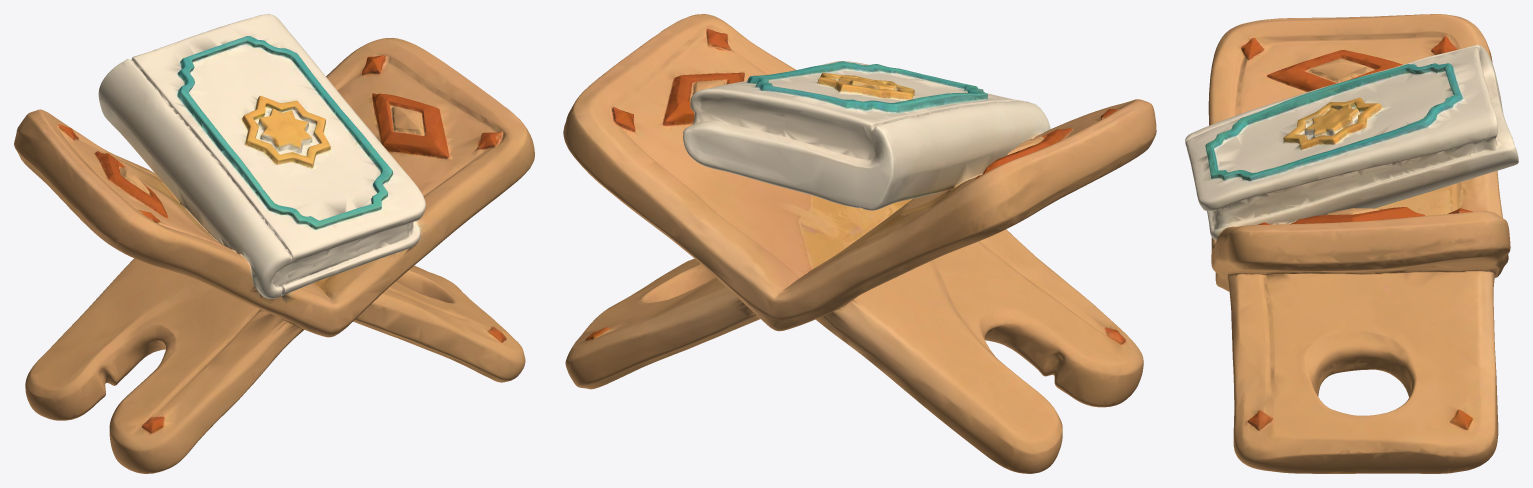
The model's file is wall-art.glb.
3 views of the same model, side by side, from view 1: azimuth 30°, elevation 25°; view 2: azimuth 150°, elevation 25°; view 3: azimuth 270°, elevation 25° (orthographic). The views are drawn at different scales.
Bounding box in the file's own units: 1.9 × 1.3 × 1.3.
1 material, 1 textured.
